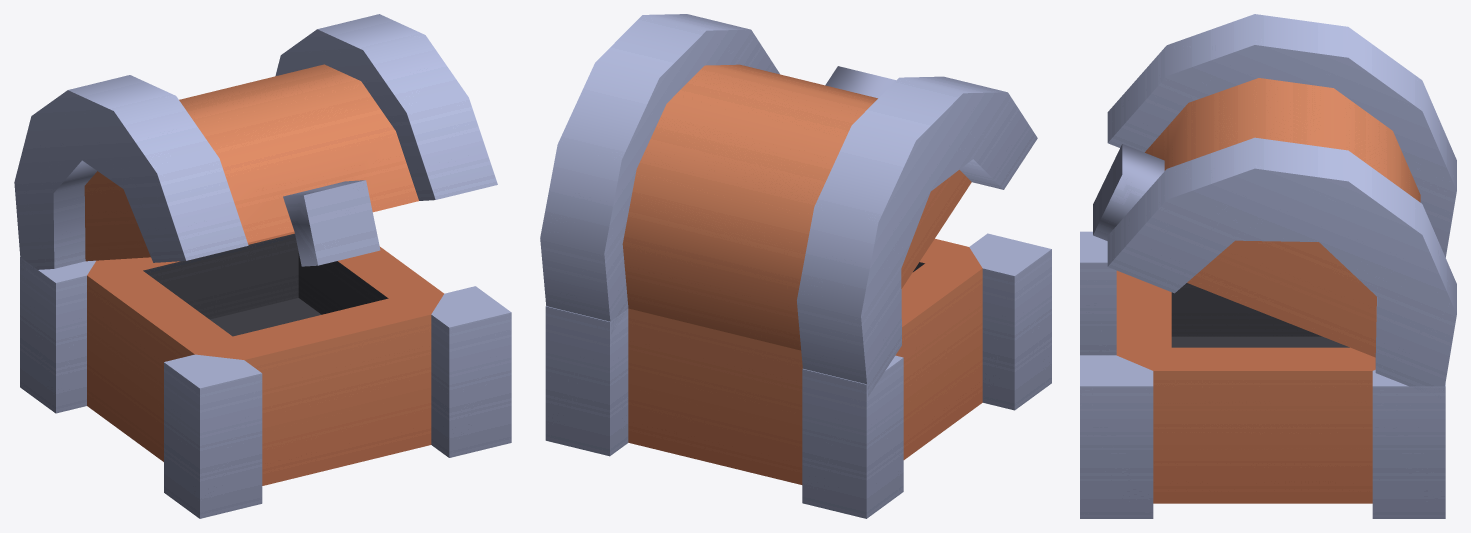
The model's file is chest.glb.
3 views of the same model, side by side, from view 1: azimuth 30°, elevation 25°; view 2: azimuth 150°, elevation 25°; view 3: azimuth 270°, elevation 25° (orthographic). The views are drawn at different scales.
Visible parts, largest first — view 1: chest; view 2: chest; view 3: chest.
Boxes of the visible parts, box(x1,y1,x2,y2) form: chest: box(14, 14, 511, 518); chest: box(540, 14, 1051, 518); chest: box(1080, 14, 1456, 518).
Bounding box in the file's own units: 0.523 × 0.5528 × 0.5389.
1 material, 1 textured.
